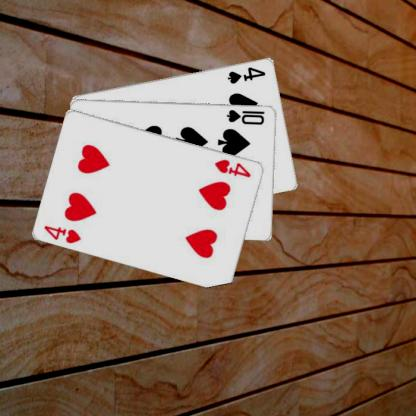10S: (224, 107, 266, 126)
4H: (212, 156, 253, 178), (42, 222, 82, 244)
4S: (225, 64, 267, 85)
